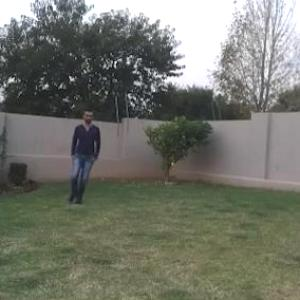follow: (67, 105, 99, 208)
